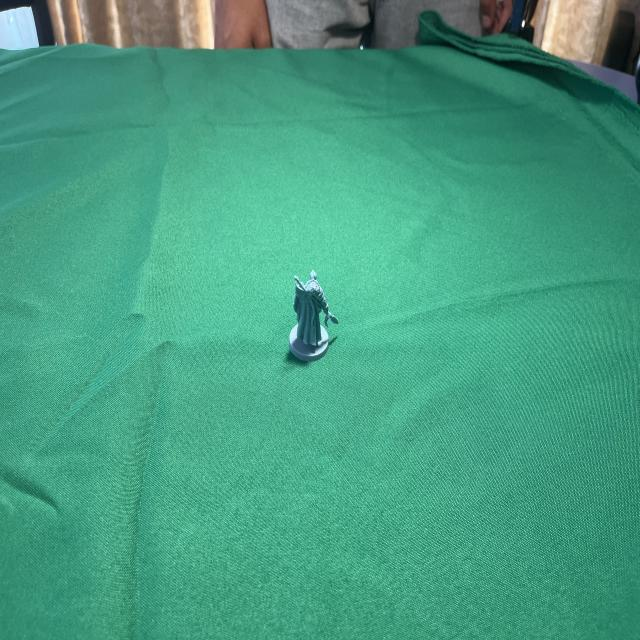isis_follower: (286, 262, 341, 376)
